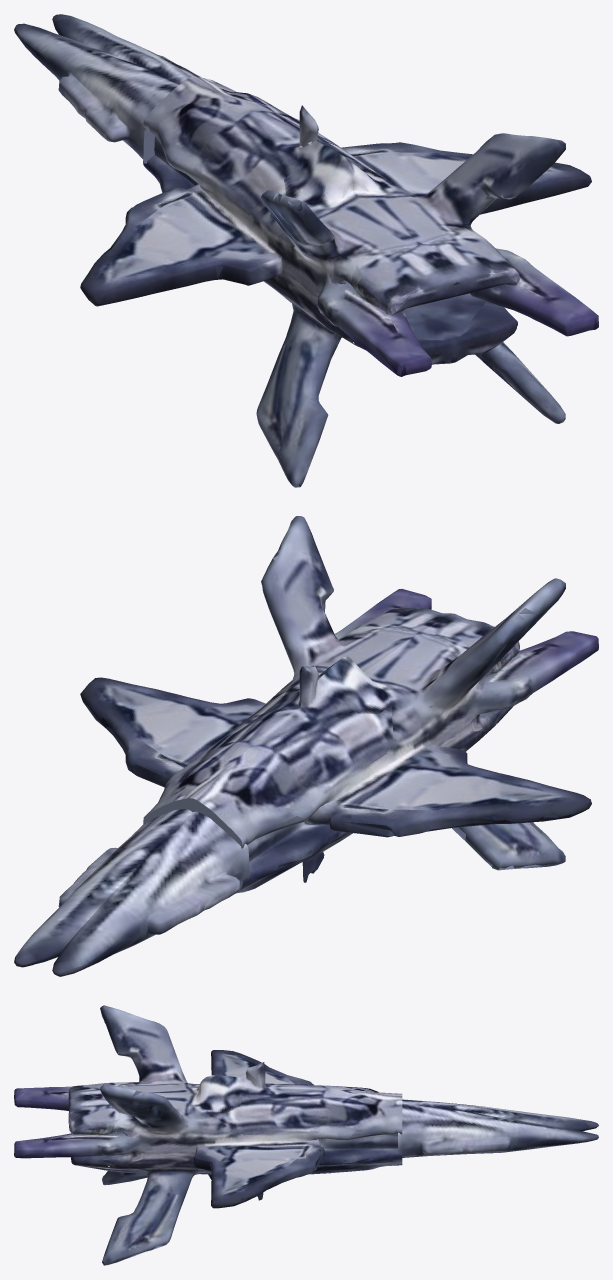
File: phenom_fighter.glb
3 renders of one model, top to bottom at view 1: azimuth 30°, elevation 25°; view 2: azimuth 150°, elevation 25°; view 3: azimuth 270°, elevation 25°, orthographic. The views are drawn at different scales.
Parts seen in each view (by area): view 1: phenom_fighter_c; view 2: phenom_fighter_c; view 3: phenom_fighter_c.
Boxes of the visible parts, x1=… form: phenom_fighter_c: x1=14, y1=14, x2=598, y2=487; phenom_fighter_c: x1=14, y1=516, x2=598, y2=976; phenom_fighter_c: x1=14, y1=1005, x2=598, y2=1265.
Bounding box in the file's own units: 0.1172 × 0.0638 × 0.1886.
Materials: 1 (1 with a texture image).
